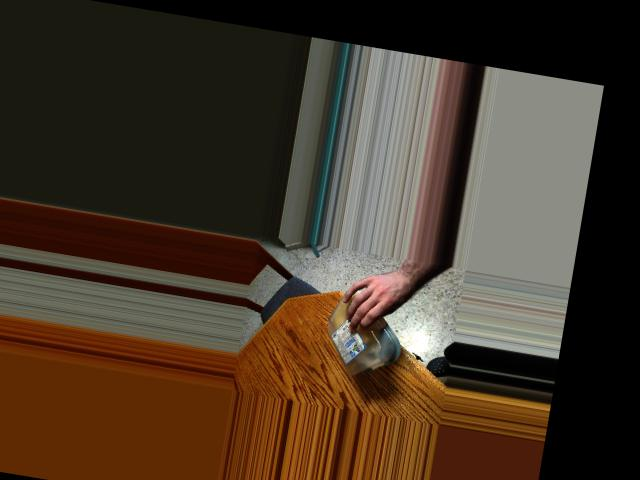cheese: (320, 278, 408, 381)
